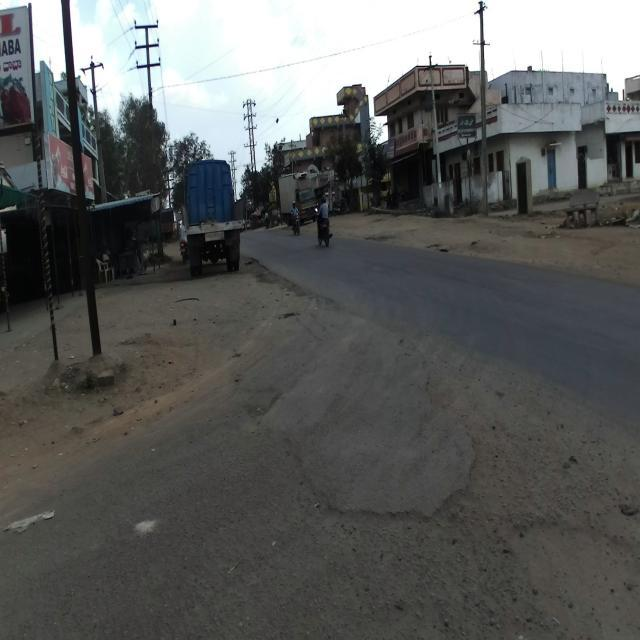pothole: (300, 331, 505, 532), (488, 448, 640, 640), (227, 294, 322, 437)
